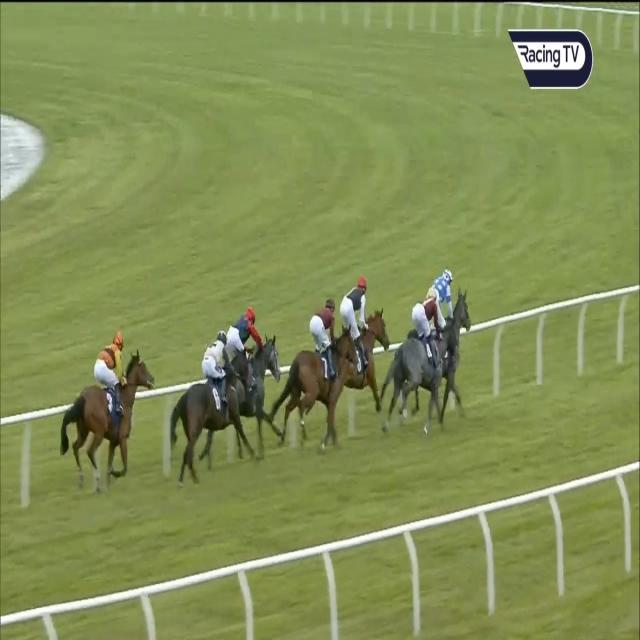horses-racing: (277, 289, 361, 459), (60, 330, 158, 475), (169, 320, 255, 483), (388, 288, 457, 442), (220, 294, 288, 440), (332, 256, 392, 421), (419, 260, 478, 380)
